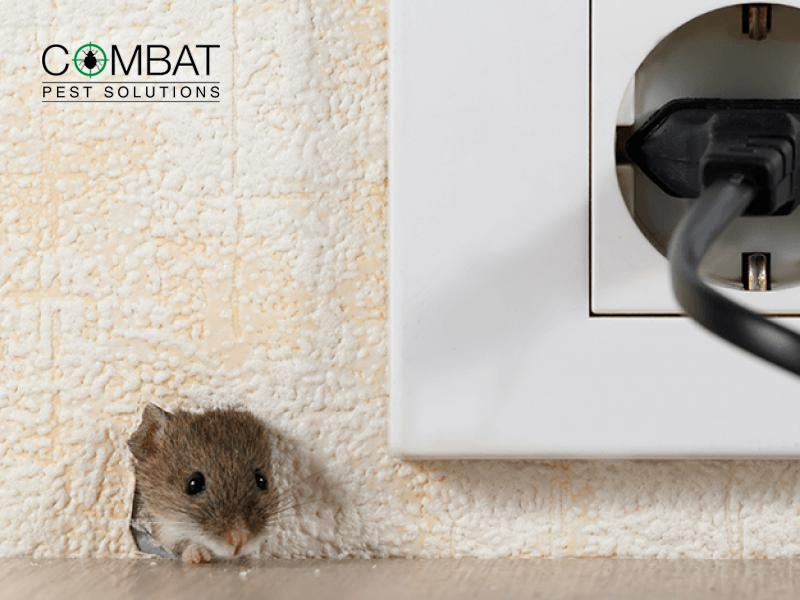rat: (126, 401, 276, 565)
